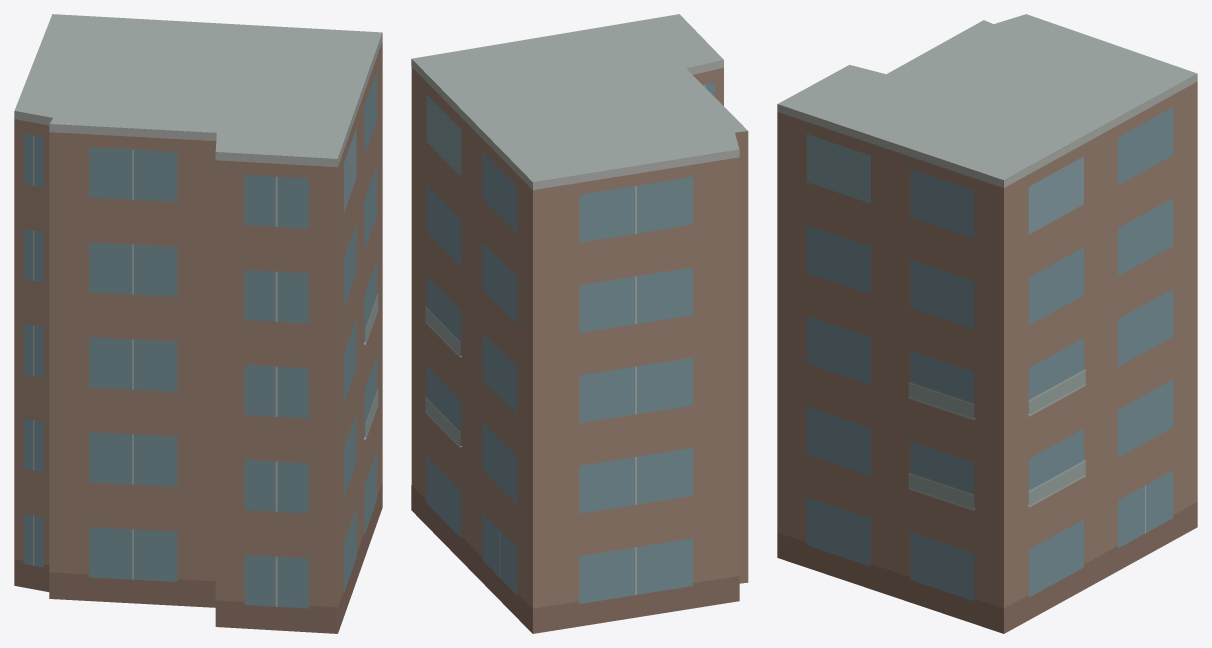
The model's file is survey-upis-32763340.glb.
3 renders of one model, left to right at view 1: azimuth 30°, elevation 25°; view 2: azimuth 150°, elevation 25°; view 3: azimuth 270°, elevation 25°, orthographic. The views are drawn at different scales.
Parts seen in each view (by area): view 1: survey-upis-32763340.tmp; view 2: survey-upis-32763340.tmp; view 3: survey-upis-32763340.tmp.
Boxes of the visible parts, box(x1,y1,x2,y2) form: survey-upis-32763340.tmp: box(14, 14, 382, 633); survey-upis-32763340.tmp: box(411, 14, 748, 633); survey-upis-32763340.tmp: box(777, 14, 1197, 633).
Bounding box in the file's own units: 11.01 × 14 × 11.76.
